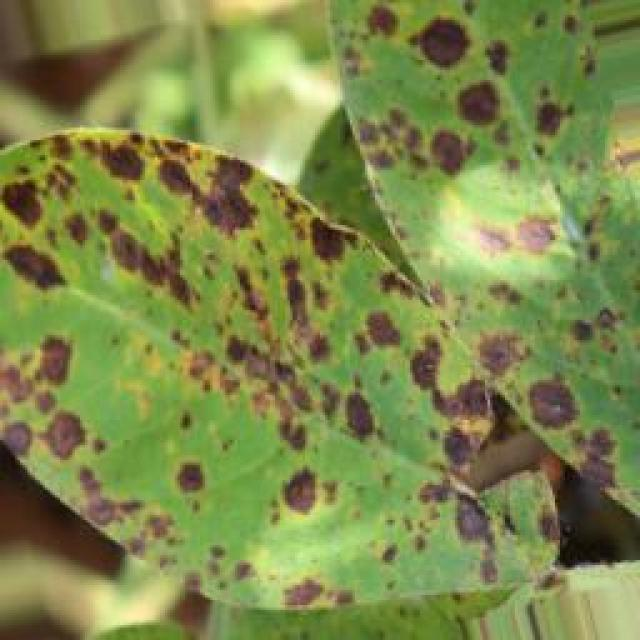Yellowish: (0, 0, 630, 572)
